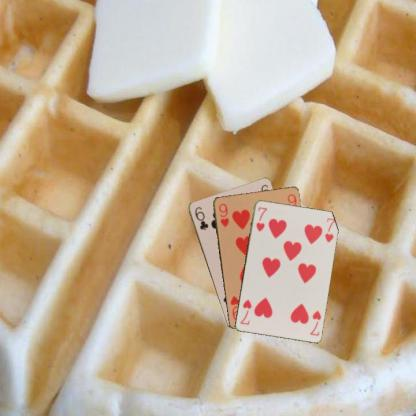6c: (192, 204, 210, 231)
7h: (253, 204, 268, 233), (307, 308, 322, 337)
9h: (216, 201, 230, 228)
